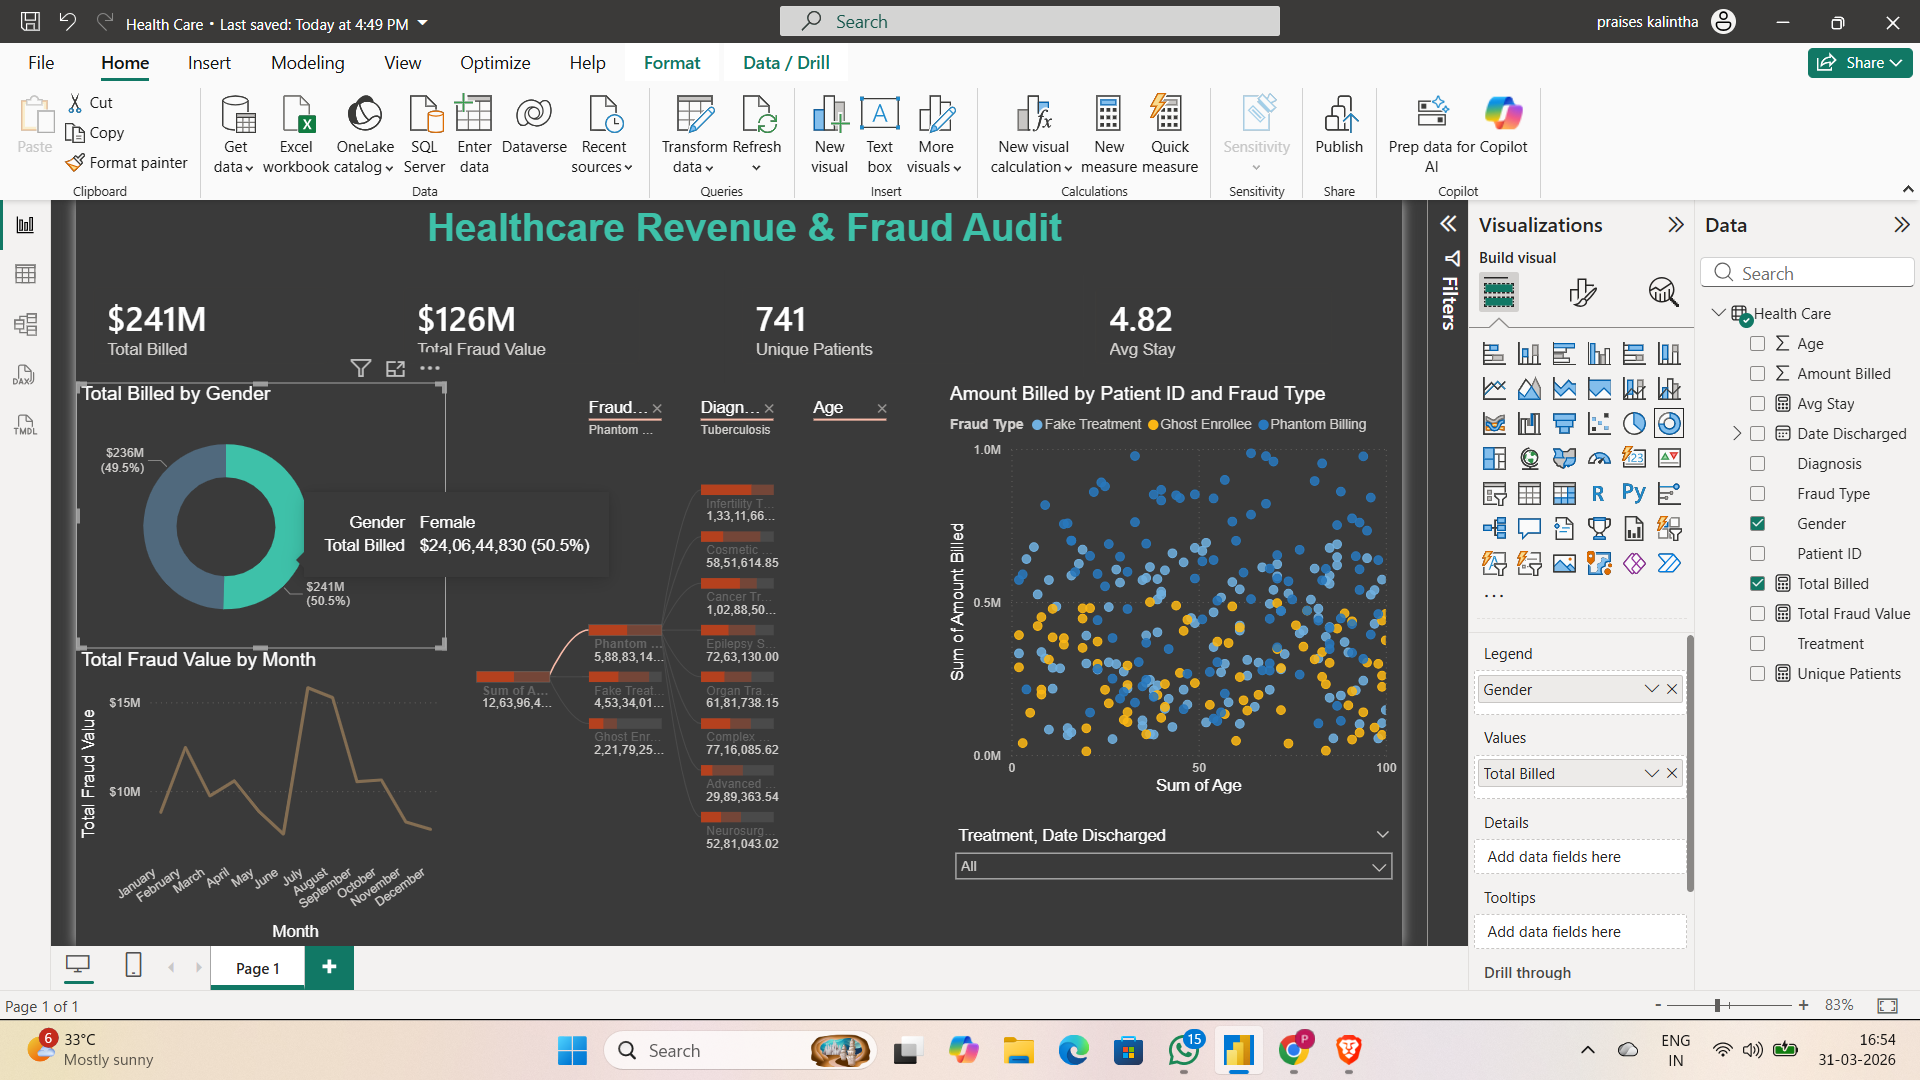

The dashboard page shown, as its layout file describes it:
{"tool":"powerbi","page":{"name":"Page 1","canvas":[1280,720],"ordinal":0},"visuals":[{"type":"textbox","box":[9.6,0,1270.7,76.8],"z":0},{"type":"cardVisual","fields":{"Data":["Health Care.Total Billed"]},"box":[0,67.6,261.8,108.6],"z":1000},{"type":"cardVisual","fields":{"Data":["Health Care.Total Fraud Value"]},"box":[299.1,67.2,262.1,108.4],"z":2000},{"type":"cardVisual","fields":{"Data":["Health Care.Unique Patients"]},"box":[625.7,67.2,262.1,108.4],"z":3000},{"type":"cardVisual","fields":{"Data":["Health Care.Avg Stay (Days)"]},"box":[967.4,67.2,262.1,108.4],"z":4000},{"type":"donutChart","fields":{"Category":["Health Care.Gender"],"Y":["Health Care.Total Billed"]},"box":[0,175.6,356.8,258],"z":5000},{"type":"lineChart","fields":{"Category":["Health Care.Date Discharged.Variation.Date Hierarchy.Month"],"Y":["Health Care.Total Fraud Value"]},"box":[0,433.6,356.8,286.8],"z":6000},{"type":"scatterChart","title":"Amount Billed by Patient ID and Fraud Type","fields":{"X":["Sum(Health Care.Age)"],"Series":["Health Care.Fraud Type"],"Y":["Sum(Health Care.Amount Billed)"],"Category":["Health Care.Patient ID"]},"box":[838.4,175.6,441.9,402.1],"z":8000},{"type":"slicer","fields":{"Values":["Health Care.Treatment","Health Care.Date Discharged"]},"box":[838.4,599.7,441.9,120.8],"z":9000},{"type":"decompositionTreeVisual","fields":{"ExplainBy":["Health Care.Fraud Type","Health Care.Diagnosis","Health Care.Age","Health Care.Gender"],"Analyze":["Sum(Health Care.Amount Billed)"]},"box":[356.8,175.6,481.6,544.8],"z":9001}]}

Visuals, with their boxes on the page's 1280x720 design canvas (x1, y1, x2, y2). These are canvas units, not pixel positions in the 1920x1080 screenshot, which may show the page scaled, cropped or inside an application window:
textbox: region(10, 0, 1280, 77)
cardVisual - Health Care.Total Billed: region(0, 68, 262, 176)
cardVisual - Health Care.Total Fraud Value: region(299, 67, 561, 176)
cardVisual - Health Care.Unique Patients: region(626, 67, 888, 176)
cardVisual - Health Care.Avg Stay (Days): region(967, 67, 1230, 176)
donutChart - Health Care.Gender x Health Care.Total Billed: region(0, 176, 357, 434)
lineChart - Health Care.Date Discharged.Variation.Date Hierarchy.Month x Health Care.Total Fraud Value: region(0, 434, 357, 720)
"Amount Billed by Patient ID and Fraud Type" scatterChart: region(838, 176, 1280, 578)
slicer - Health Care.Treatment x Health Care.Date Discharged: region(838, 600, 1280, 720)
decompositionTreeVisual - Health Care.Fraud Type x Health Care.Diagnosis: region(357, 176, 838, 720)
